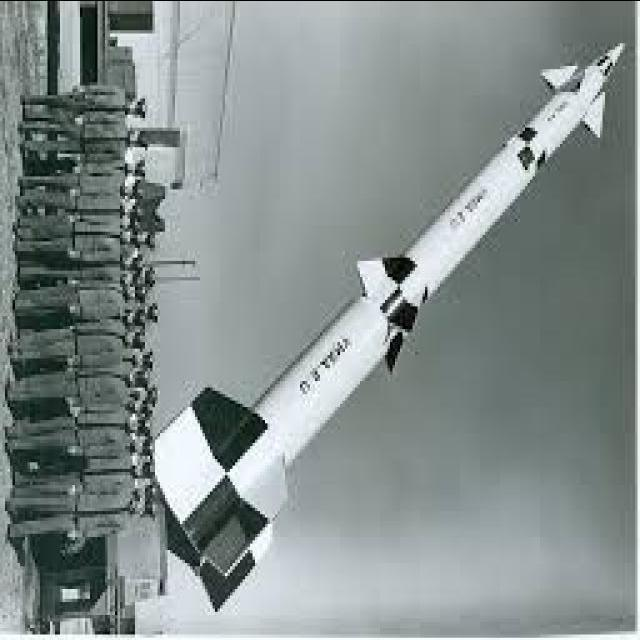missile: (154, 43, 625, 613)
